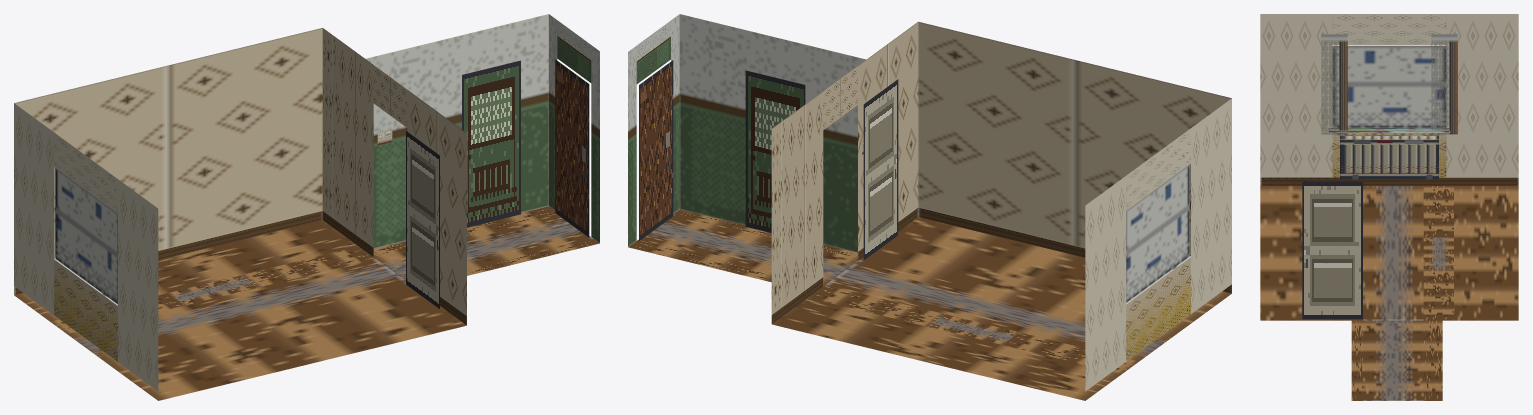
The model's file is apartment.glb.
The picture shows the model from 3 angles, left to right: view 1: azimuth 30°, elevation 25°; view 2: azimuth 150°, elevation 25°; view 3: azimuth 270°, elevation 25°; orthographic projection. The views are drawn at different scales.
Parts seen in each view (by area): view 1: walls, floor, door, window; view 2: walls, floor, door, window; view 3: floor, walls, window, door, furniture.
Part boxes in pixels (x1,y1,x2,y2): walls: (14,14,599,391); floor: (14,206,599,400); door: (377,59,589,308); window: (54,168,117,305); walls: (628,14,1231,391); floor: (628,209,1231,400); door: (639,60,898,260); window: (1126,164,1190,304); floor: (1260,186,1518,400); walls: (1260,14,1518,185); window: (1321,34,1457,134); door: (1302,181,1362,319); furniture: (1340,135,1438,179).
Bounding box in the file's own units: 6.7 × 2.5 × 3.4.
5 materials, 5 textured.
